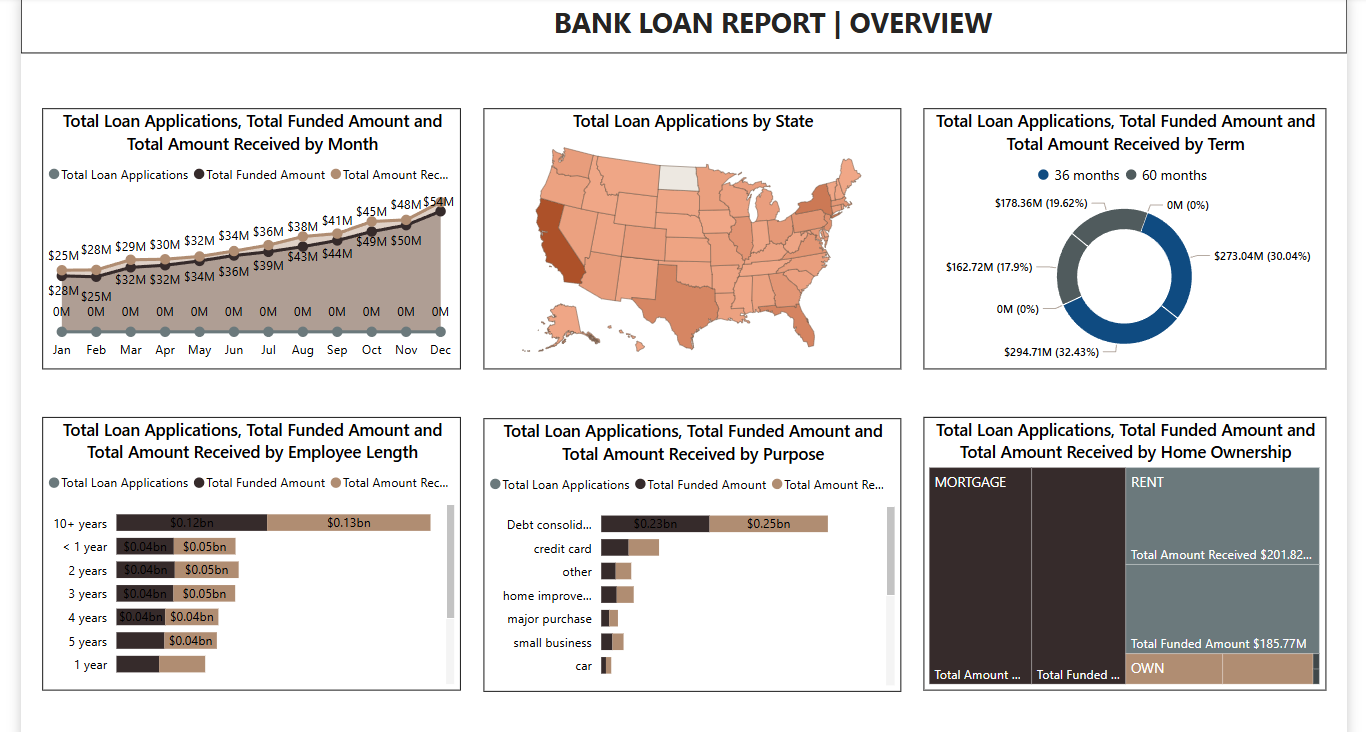

The dashboard page shown, as its layout file describes it:
{"tool":"powerbi","page":{"name":"Overview","canvas":[1280,720],"ordinal":1},"visuals":[{"type":"shape","box":[0,0,1280,54.3],"z":1000},{"type":"textbox","box":[509.2,1.4,447.3,49.5],"z":4000},{"type":"areaChart","fields":{"Y":["table_measures.total_loan_appl","table_measures.total_funded_amt","table_measures.total_received_amt"],"Category":["Date Table.Month"]},"box":[20.5,107.4,404.2,252.1],"z":16000},{"type":"shapeMap","fields":{"Value":["table_measures.total_loan_appl"],"Category":["financial_loan.address_state"]},"box":[446.4,107.4,403,252.1],"z":19000},{"type":"donutChart","fields":{"Y":["table_measures.total_loan_appl","table_measures.total_funded_amt","table_measures.total_received_amt"],"Category":["financial_loan.term"]},"box":[871.1,107.4,388.5,252.1],"z":21000},{"type":"barChart","fields":{"Y":["table_measures.total_loan_appl","table_measures.total_funded_amt","table_measures.total_received_amt"],"Category":["financial_loan.emp_length"]},"box":[20.5,405.4,404.2,264.2],"z":22000},{"type":"barChart","fields":{"Y":["table_measures.total_loan_appl","table_measures.total_funded_amt","table_measures.total_received_amt"],"Category":["financial_loan.purpose"]},"box":[446.4,406.6,403,264.2],"z":25000},{"type":"treemap","fields":{"Values":["table_measures.total_loan_appl","table_measures.total_funded_amt","table_measures.total_received_amt"],"Group":["financial_loan.home_ownership"]},"box":[871.1,405.4,388.5,264.2],"z":27000}]}

Visuals, with their boxes on the page's 1280x720 design canvas (x1, y1, x2, y2). These are canvas units, not pixel positions in the 1366x732 screenshot, which may show the page scaled, cropped or inside an application window:
shape: Rect(0, 0, 1280, 54)
textbox: Rect(509, 1, 956, 51)
areaChart - table_measures.total_loan_appl x table_measures.total_funded_amt: Rect(20, 107, 425, 360)
shapeMap - table_measures.total_loan_appl x financial_loan.address_state: Rect(446, 107, 849, 360)
donutChart - table_measures.total_loan_appl x table_measures.total_funded_amt: Rect(871, 107, 1260, 360)
barChart - table_measures.total_loan_appl x table_measures.total_funded_amt: Rect(20, 405, 425, 670)
barChart - table_measures.total_loan_appl x table_measures.total_funded_amt: Rect(446, 407, 849, 671)
treemap - table_measures.total_loan_appl x table_measures.total_funded_amt: Rect(871, 405, 1260, 670)
